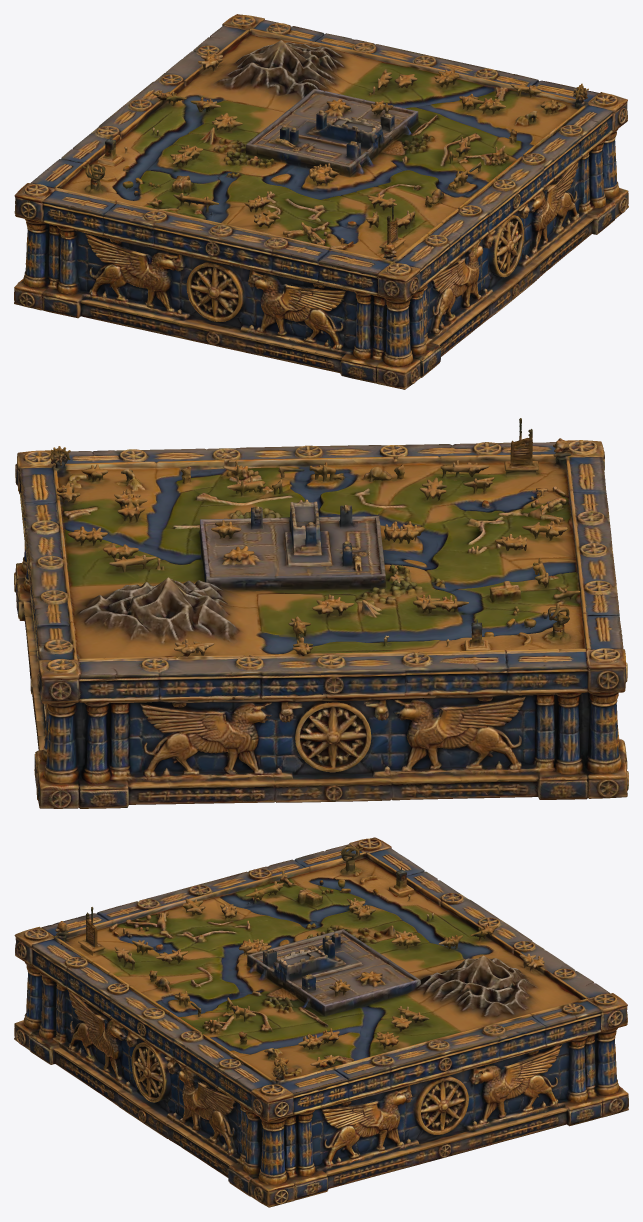
File: table.glb
3 views of the same model, one above another, from view 1: azimuth 30°, elevation 25°; view 2: azimuth 150°, elevation 25°; view 3: azimuth 270°, elevation 25° (orthographic). The views are drawn at different scales.
Visible parts, largest first — view 1: tripo_node_f35dc951-6d97-4eeb-8cbe-1d6b812f1dbb; view 2: tripo_node_f35dc951-6d97-4eeb-8cbe-1d6b812f1dbb; view 3: tripo_node_f35dc951-6d97-4eeb-8cbe-1d6b812f1dbb.
Boxes of the visible parts, bbox=[...] form: tripo_node_f35dc951-6d97-4eeb-8cbe-1d6b812f1dbb: bbox=[14, 14, 628, 389]; tripo_node_f35dc951-6d97-4eeb-8cbe-1d6b812f1dbb: bbox=[14, 418, 628, 808]; tripo_node_f35dc951-6d97-4eeb-8cbe-1d6b812f1dbb: bbox=[14, 837, 628, 1207].
Size of the model in its own units: 1.94 by 0.4998 by 1.9.
Materials: 1 (1 with a texture image).
